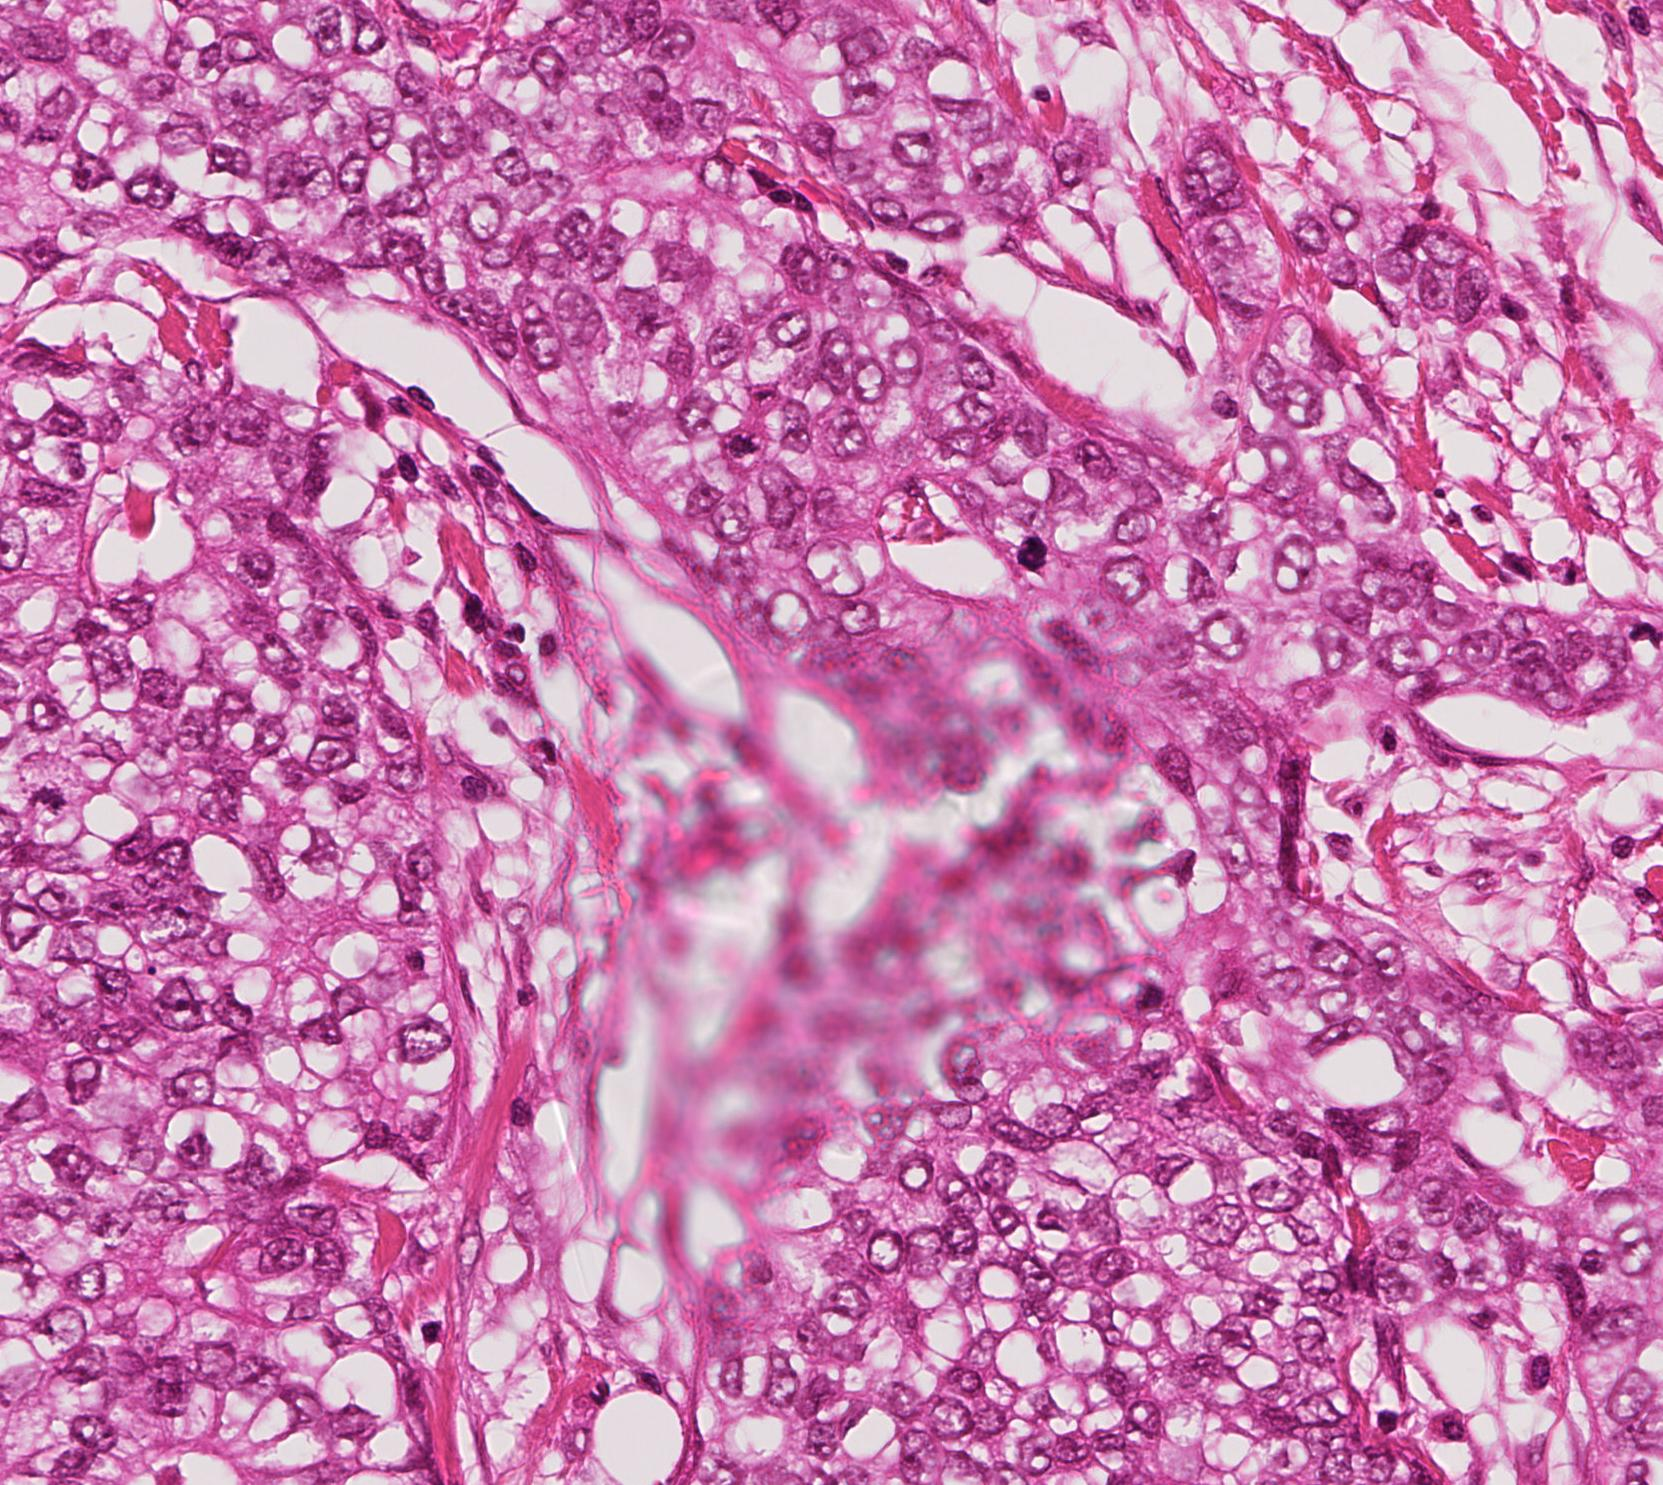mitosis: (999, 520, 1059, 581), (22, 760, 82, 820)
